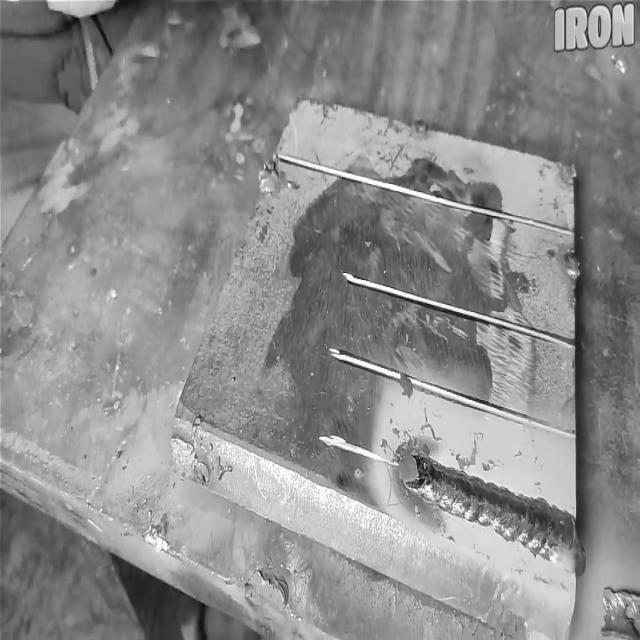Good Weld: (428, 458, 546, 558)
